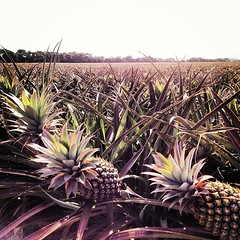Pineapple: (144, 141, 240, 239), (32, 126, 123, 201)
